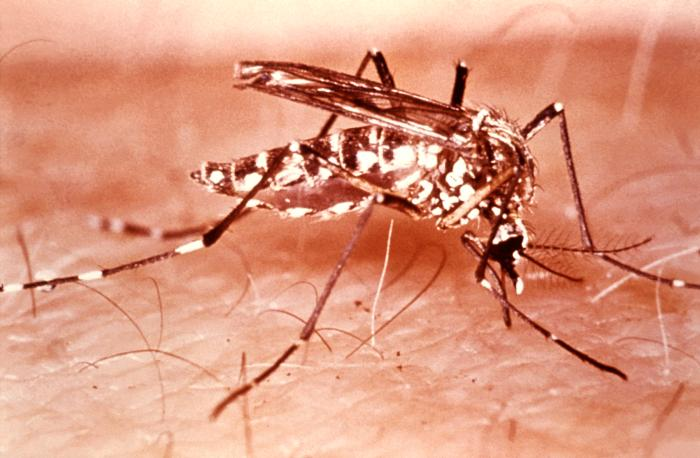dengue_mosquito: (69, 48, 655, 378)
